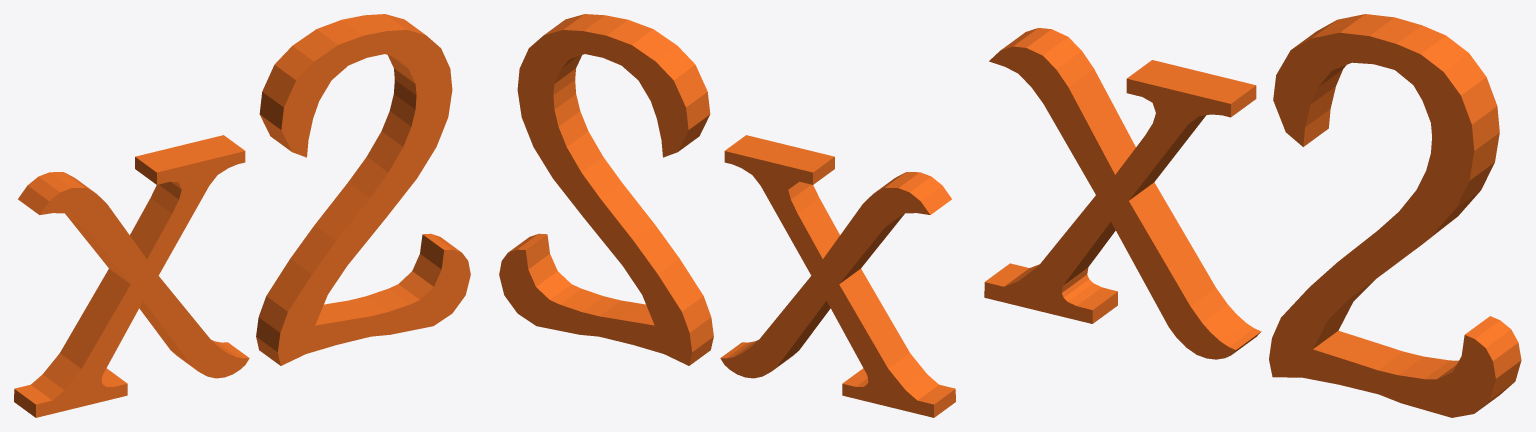
The model's file is duplicate_final.fbx.
3 views of the same model, side by side, from view 1: azimuth 30°, elevation 25°; view 2: azimuth 150°, elevation 25°; view 3: azimuth 330°, elevation 25° (orthographic). The views are drawn at different scales.
Parts seen in each view (by area): view 1: x2; view 2: x2; view 3: x2.
Part boxes in pixels (box(x1,y1,x2,y2)): x2: box(14, 14, 470, 417); x2: box(499, 14, 955, 417); x2: box(984, 14, 1521, 417).
Bounding box in the file's own units: 130 × 88.38 × 11.23.
